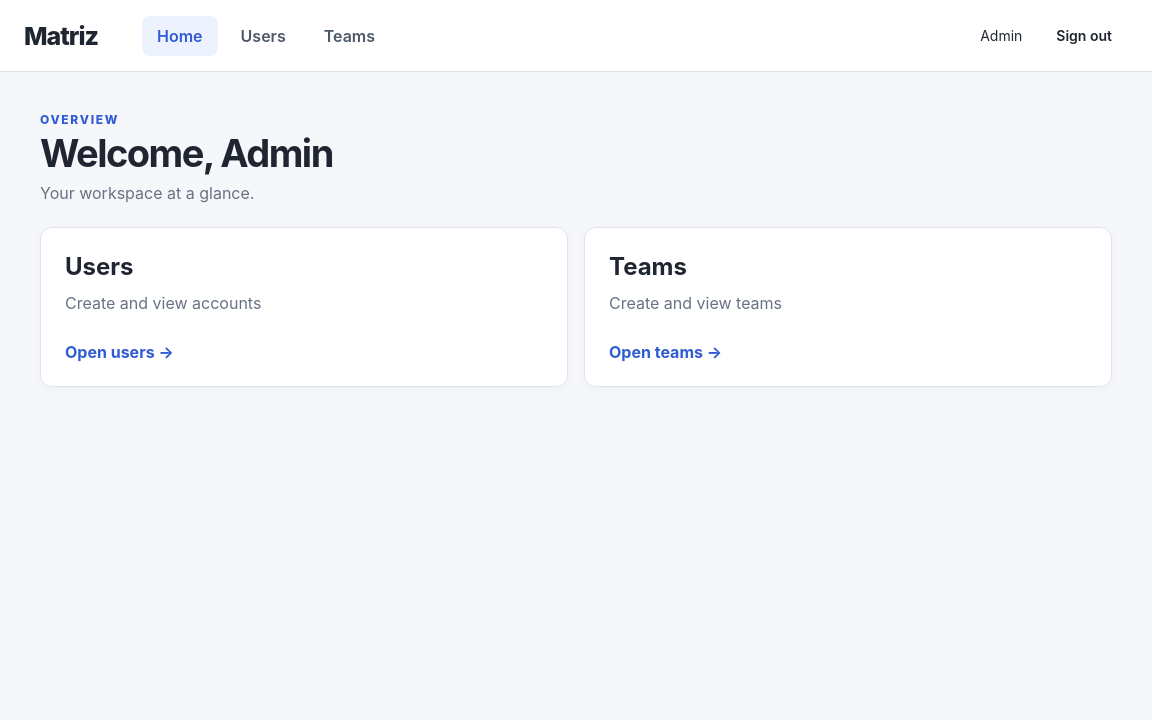
Test: signs out and clears the stored session after provider confirmation
Click the button "Sign out".
click(1084, 36)  # box [1040,17,1128,54]
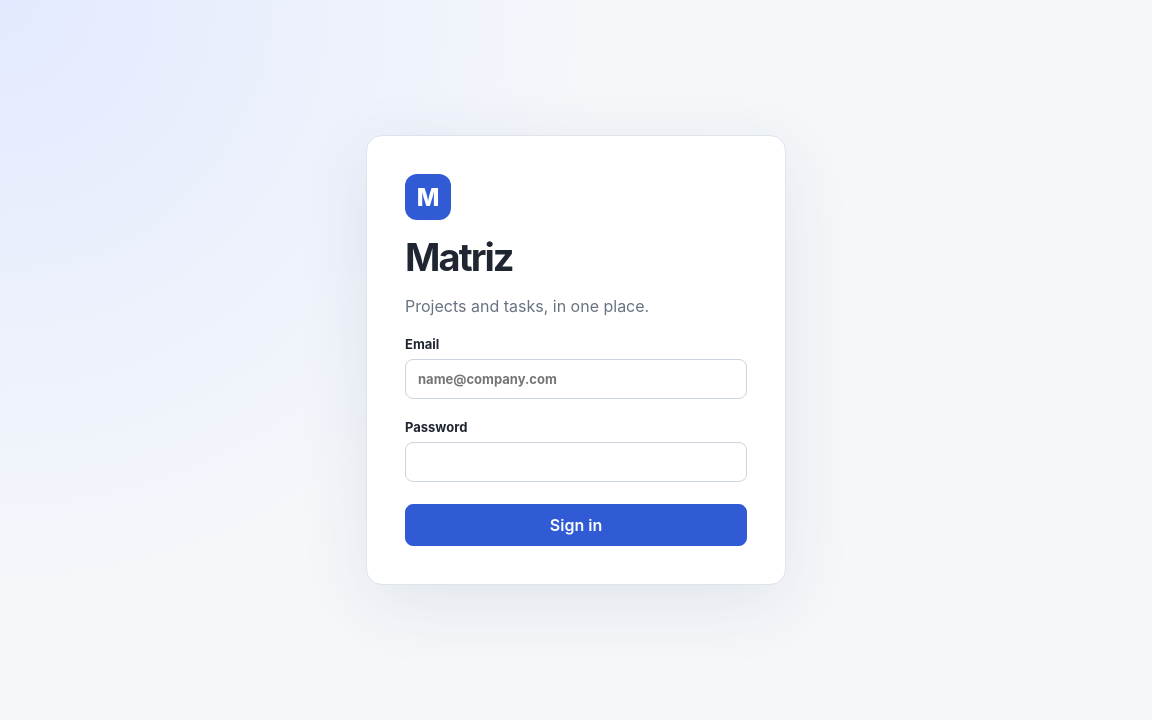
Expected: the button "Sign in" is shown, [405,504,747,546]
